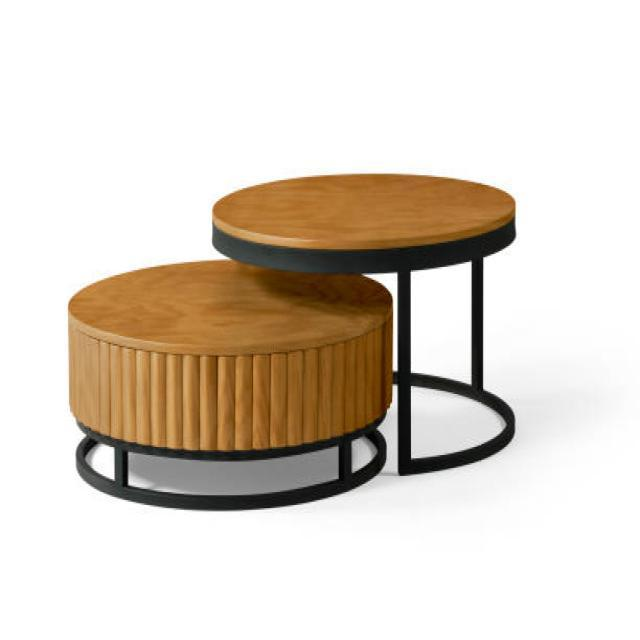table: (210, 170, 517, 476), (66, 256, 394, 510)
